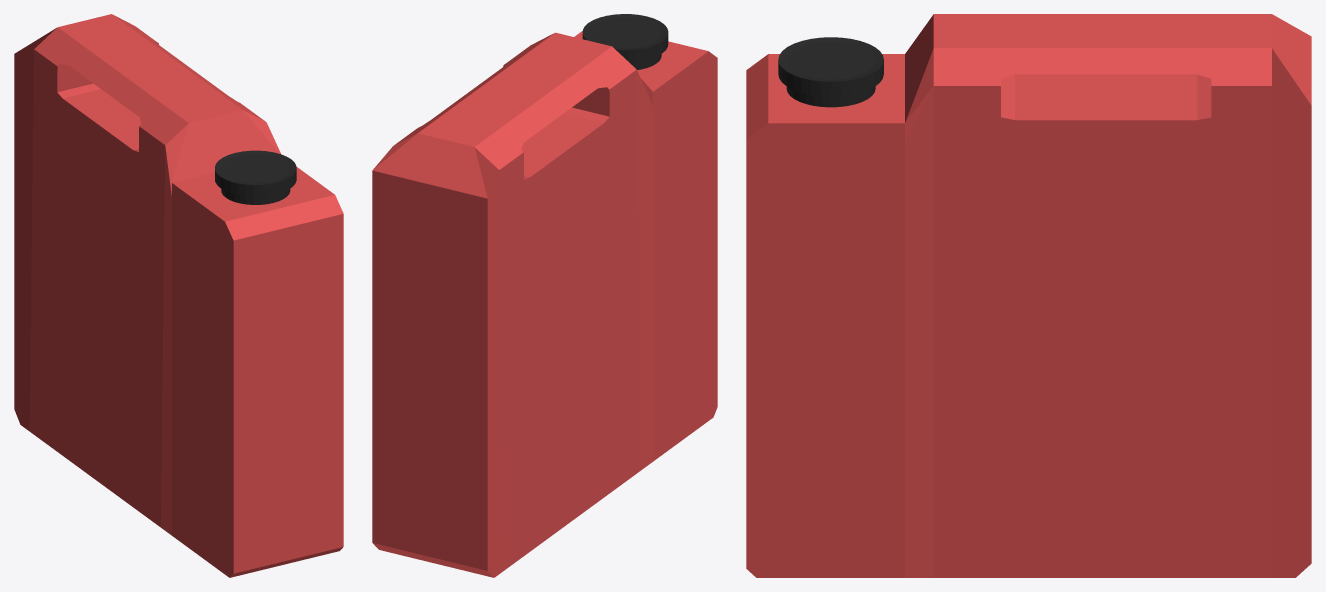
Rendered from gascan.glb.
The picture shows the model from 3 angles, left to right: view 1: azimuth 30°, elevation 25°; view 2: azimuth 150°, elevation 25°; view 3: azimuth 270°, elevation 25°; orthographic projection. The views are drawn at different scales.
Visible parts, largest first — view 1: Cube.004, Cylinder.002; view 2: Cube.004, Cylinder.002; view 3: Cube.004, Cylinder.002.
Boxes of the visible parts, x1,y1,x2,y2 form: Cube.004: (14,14,343,577); Cylinder.002: (215,150,296,204); Cube.004: (372,31,717,577); Cylinder.002: (582,14,668,69); Cube.004: (746,14,1311,577); Cylinder.002: (778,37,883,107).
Bounding box in the file's own units: 0.58 × 2 × 2.
